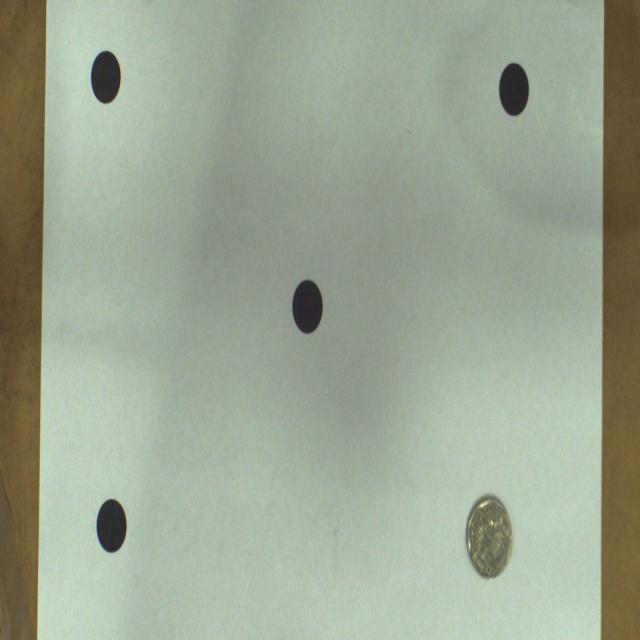space: (499, 62, 529, 116), (292, 280, 322, 333), (91, 51, 121, 104)
tail5bath: (466, 496, 512, 578)
